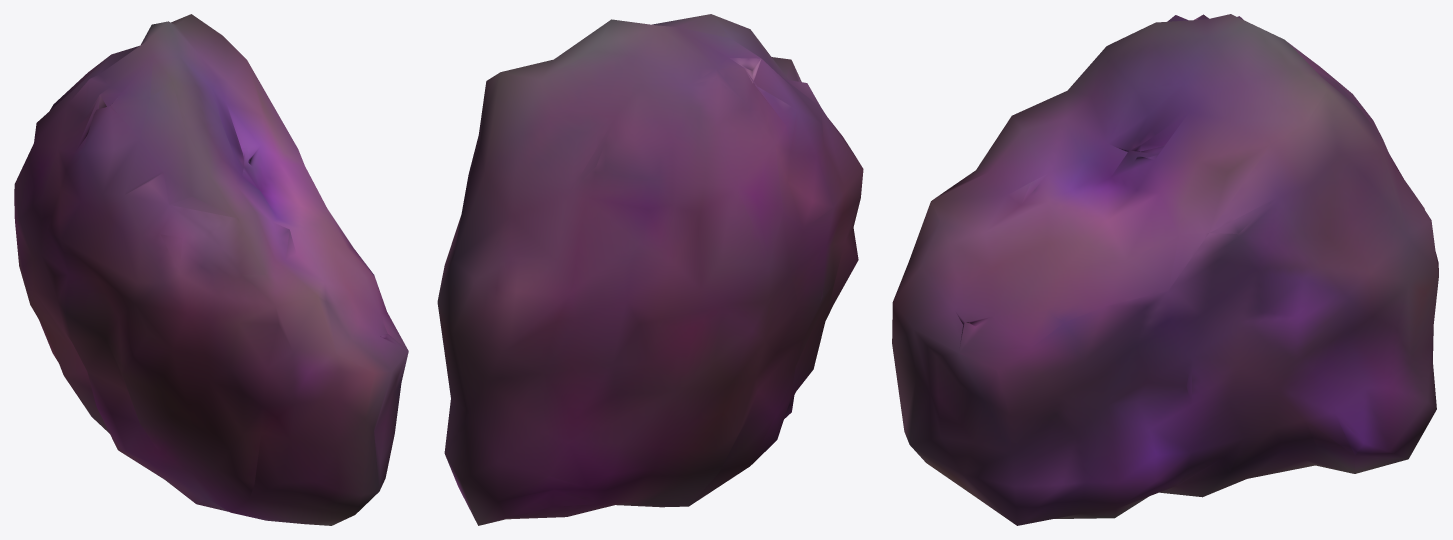
File: sporestone.glb
3 renders of one model, left to right at view 1: azimuth 30°, elevation 25°; view 2: azimuth 150°, elevation 25°; view 3: azimuth 270°, elevation 25°, orthographic. The views are drawn at different scales.
Parts seen in each view (by area): view 1: model; view 2: model; view 3: model.
Boxes of the visible parts, <box> form: model: <box>14,14,408,525</box>; model: <box>437,14,863,525</box>; model: <box>892,14,1438,525</box>.
Bounding box in the file's own units: 0.24 × 0.3742 × 0.3963.
Materials: 1 (1 with a texture image).
